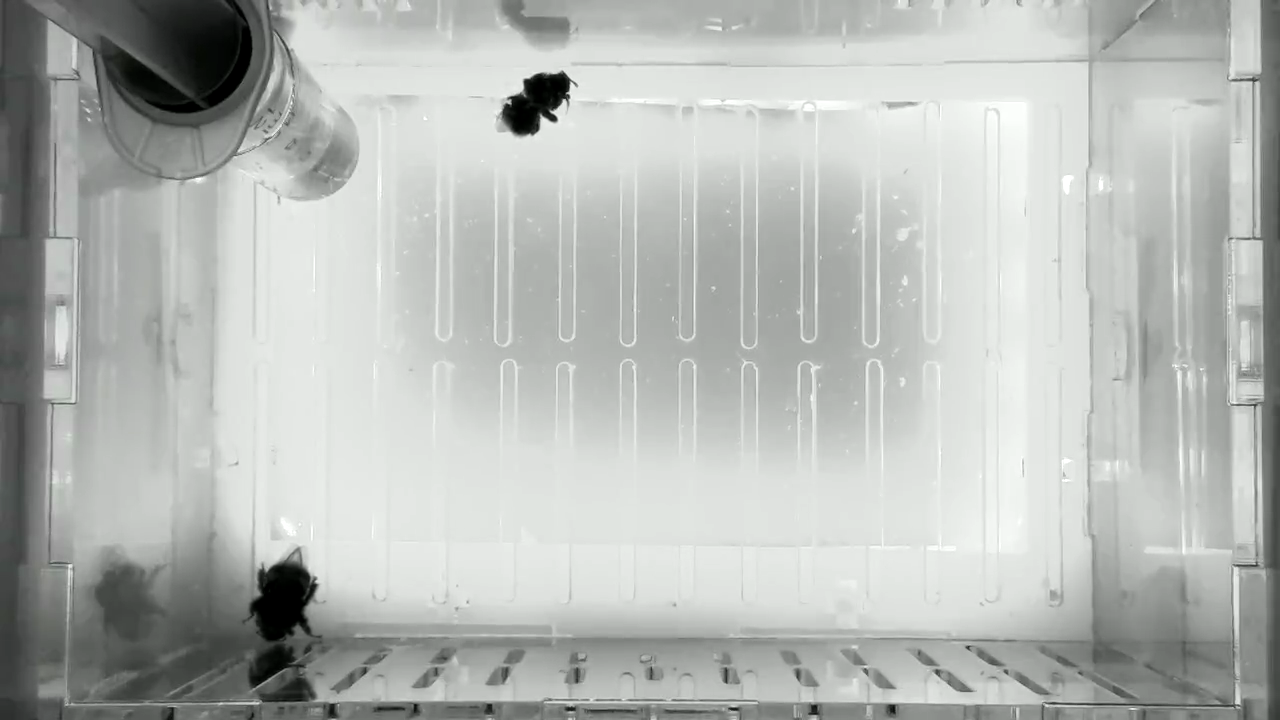bee: (242, 542, 331, 644), (490, 68, 580, 144)
feeder: (224, 44, 365, 206)
